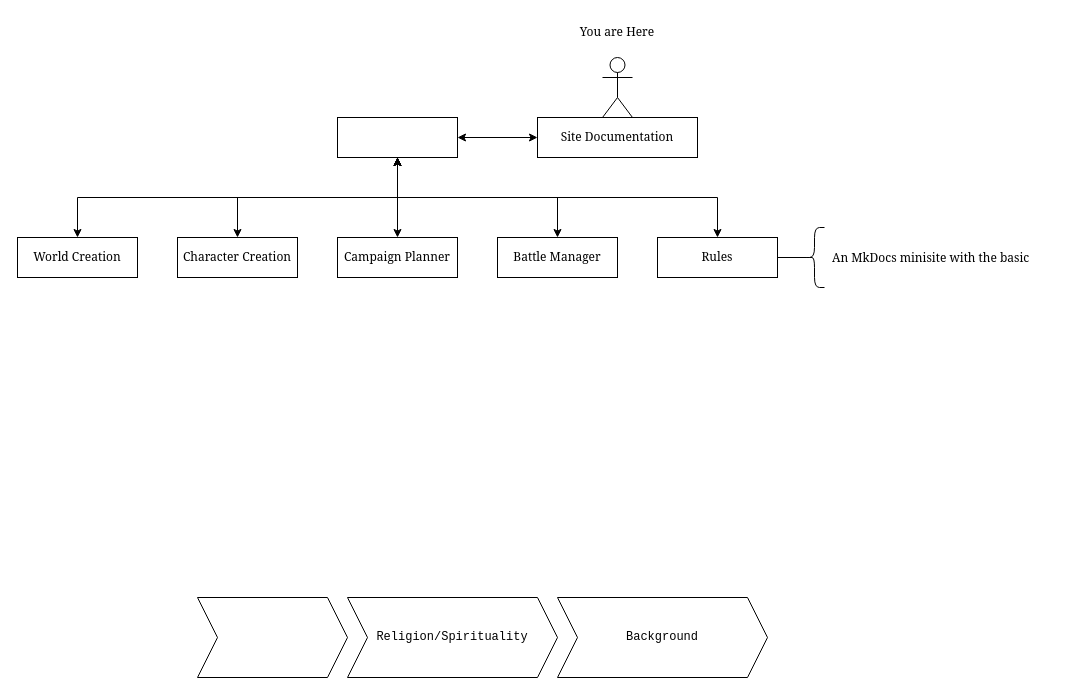
This 1065x695 diagram has some shape labels left out. Each missing label, with the centre of its shape:
"Home Page" goes at pixel 397 137.
"Personality" goes at pixel 272 637.
